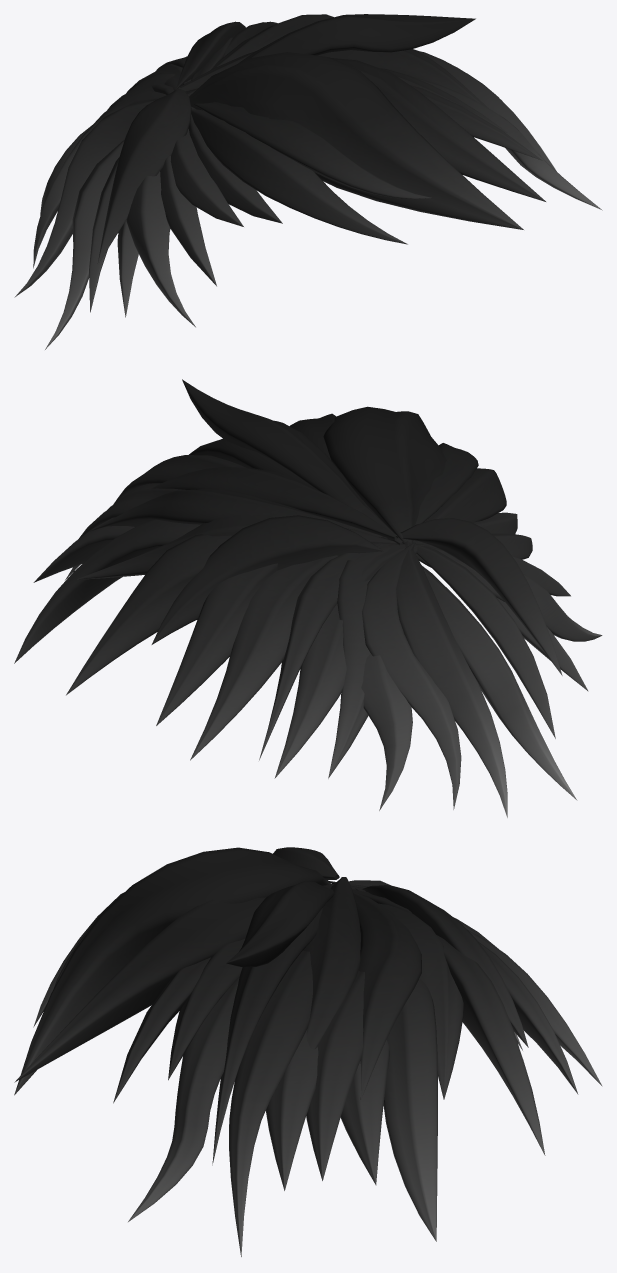
File: haird3.fbx
3 renders of one model, top to bottom at view 1: azimuth 30°, elevation 25°; view 2: azimuth 150°, elevation 25°; view 3: azimuth 270°, elevation 25°, orthographic. The views are drawn at different scales.
Parts seen in each view (by area): view 1: NurbsPath.033; view 2: NurbsPath.033; view 3: NurbsPath.033.
Part boxes in pixels (left/top/right/bottom): NurbsPath.033: left=14, top=14, right=602, bottom=349; NurbsPath.033: left=14, top=379, right=602, bottom=817; NurbsPath.033: left=14, top=847, right=602, bottom=1256.
Bounding box in the file's own units: 259 × 294 × 153.
